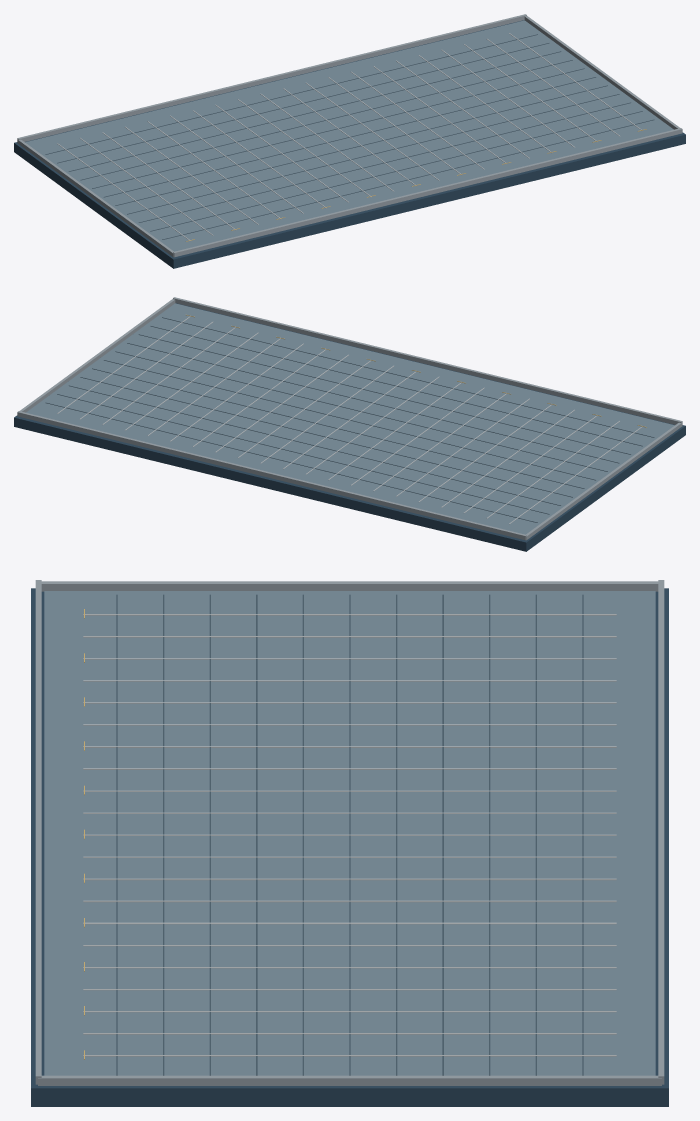
The model's file is 00_L82_BlackstarEMCChamberBase.glb.
3 views of the same model, one above another, from view 1: azimuth 30°, elevation 25°; view 2: azimuth 150°, elevation 25°; view 3: azimuth 270°, elevation 25° (orthographic). The views are drawn at different scales.
Parts seen in each view (by area): view 1: BlackstarEMCChamberBase_Node_0001, BlackstarEMCChamberBase_Node_0000, BlackstarEMCChamberBase_Node_0046, BlackstarEMCChamberBase_Node_0045, BlackstarEMCChamberBase_Node_0047, BlackstarEMCChamberBase_Node_0048, BlackstarEMCChamberBase_Node_0040, BlackstarEMCChamberBase_Node_0041, BlackstarEMCChamberBase_Node_0043, BlackstarEMCChamberBase_Node_0044, BlackstarEMCChamberBase_Node_0037, BlackstarEMCChamberBase_Node_0042 (+5 smaller); view 2: BlackstarEMCChamberBase_Node_0001, BlackstarEMCChamberBase_Node_0000, BlackstarEMCChamberBase_Node_0045, BlackstarEMCChamberBase_Node_0046, BlackstarEMCChamberBase_Node_0047, BlackstarEMCChamberBase_Node_0048, BlackstarEMCChamberBase_Node_0035, BlackstarEMCChamberBase_Node_0037, BlackstarEMCChamberBase_Node_0038, BlackstarEMCChamberBase_Node_0034, BlackstarEMCChamberBase_Node_0036, BlackstarEMCChamberBase_Node_0041 (+5 smaller); view 3: BlackstarEMCChamberBase_Node_0001, BlackstarEMCChamberBase_Node_0000, BlackstarEMCChamberBase_Node_0048, BlackstarEMCChamberBase_Node_0047, BlackstarEMCChamberBase_Node_0045, BlackstarEMCChamberBase_Node_0046, BlackstarEMCChamberBase_Node_0022, BlackstarEMCChamberBase_Node_0020, BlackstarEMCChamberBase_Node_0023, BlackstarEMCChamberBase_Node_0013, BlackstarEMCChamberBase_Node_0016, BlackstarEMCChamberBase_Node_0019 (+26 smaller).
Boxes of the visible parts, bbox=[...] form: BlackstarEMCChamberBase_Node_0001: bbox=[25, 20, 673, 251]; BlackstarEMCChamberBase_Node_0000: bbox=[14, 20, 685, 268]; BlackstarEMCChamberBase_Node_0046: bbox=[173, 128, 682, 257]; BlackstarEMCChamberBase_Node_0045: bbox=[17, 14, 526, 141]; BlackstarEMCChamberBase_Node_0047: bbox=[17, 139, 173, 257]; BlackstarEMCChamberBase_Node_0048: bbox=[524, 16, 680, 129]; BlackstarEMCChamberBase_Node_0040: bbox=[115, 85, 607, 205]; BlackstarEMCChamberBase_Node_0041: bbox=[127, 94, 619, 214]; BlackstarEMCChamberBase_Node_0043: bbox=[150, 111, 642, 231]; BlackstarEMCChamberBase_Node_0044: bbox=[162, 119, 654, 239]; BlackstarEMCChamberBase_Node_0037: bbox=[80, 60, 572, 180]; BlackstarEMCChamberBase_Node_0042: bbox=[139, 102, 630, 222]; BlackstarEMCChamberBase_Node_0001: bbox=[26, 303, 674, 534]; BlackstarEMCChamberBase_Node_0000: bbox=[14, 303, 685, 551]; BlackstarEMCChamberBase_Node_0045: bbox=[17, 411, 526, 540]; BlackstarEMCChamberBase_Node_0046: bbox=[173, 297, 682, 424]; BlackstarEMCChamberBase_Node_0047: bbox=[526, 422, 682, 540]; BlackstarEMCChamberBase_Node_0048: bbox=[19, 299, 175, 412]; BlackstarEMCChamberBase_Node_0035: bbox=[57, 394, 549, 514]; BlackstarEMCChamberBase_Node_0037: bbox=[80, 377, 572, 497]; BlackstarEMCChamberBase_Node_0038: bbox=[92, 368, 584, 488]; BlackstarEMCChamberBase_Node_0034: bbox=[45, 402, 537, 522]; BlackstarEMCChamberBase_Node_0036: bbox=[69, 385, 560, 505]; BlackstarEMCChamberBase_Node_0041: bbox=[127, 343, 619, 463]; BlackstarEMCChamberBase_Node_0001: bbox=[44, 591, 655, 1075]; BlackstarEMCChamberBase_Node_0000: bbox=[31, 588, 668, 1106]; BlackstarEMCChamberBase_Node_0048: bbox=[38, 1075, 661, 1085]; BlackstarEMCChamberBase_Node_0047: bbox=[41, 581, 658, 591]; BlackstarEMCChamberBase_Node_0045: bbox=[658, 580, 664, 1084]; BlackstarEMCChamberBase_Node_0046: bbox=[35, 580, 41, 1084]; BlackstarEMCChamberBase_Node_0022: bbox=[83, 900, 616, 902]; BlackstarEMCChamberBase_Node_0020: bbox=[83, 878, 616, 880]; BlackstarEMCChamberBase_Node_0023: bbox=[83, 922, 616, 924]; BlackstarEMCChamberBase_Node_0013: bbox=[83, 768, 616, 769]; BlackstarEMCChamberBase_Node_0016: bbox=[83, 812, 616, 813]; BlackstarEMCChamberBase_Node_0019: bbox=[83, 856, 616, 857].
Size of the model in its own units: 25.4 by 0.68 by 13.7.
